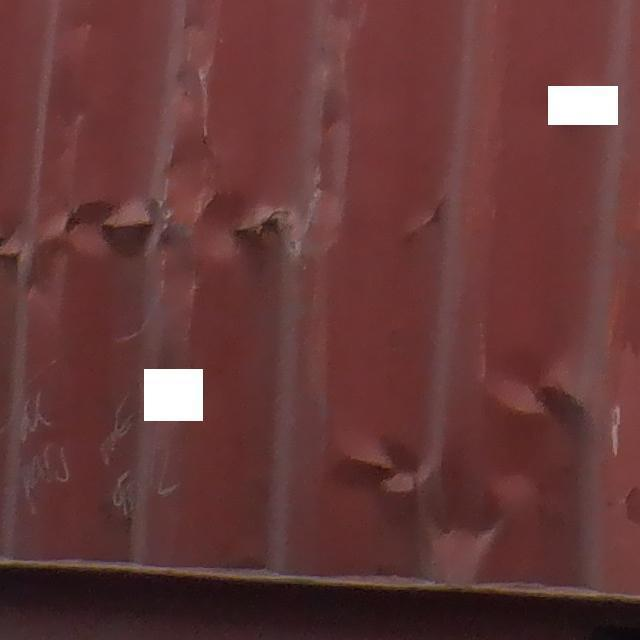dent: (2, 72, 451, 276), (309, 340, 626, 601)
